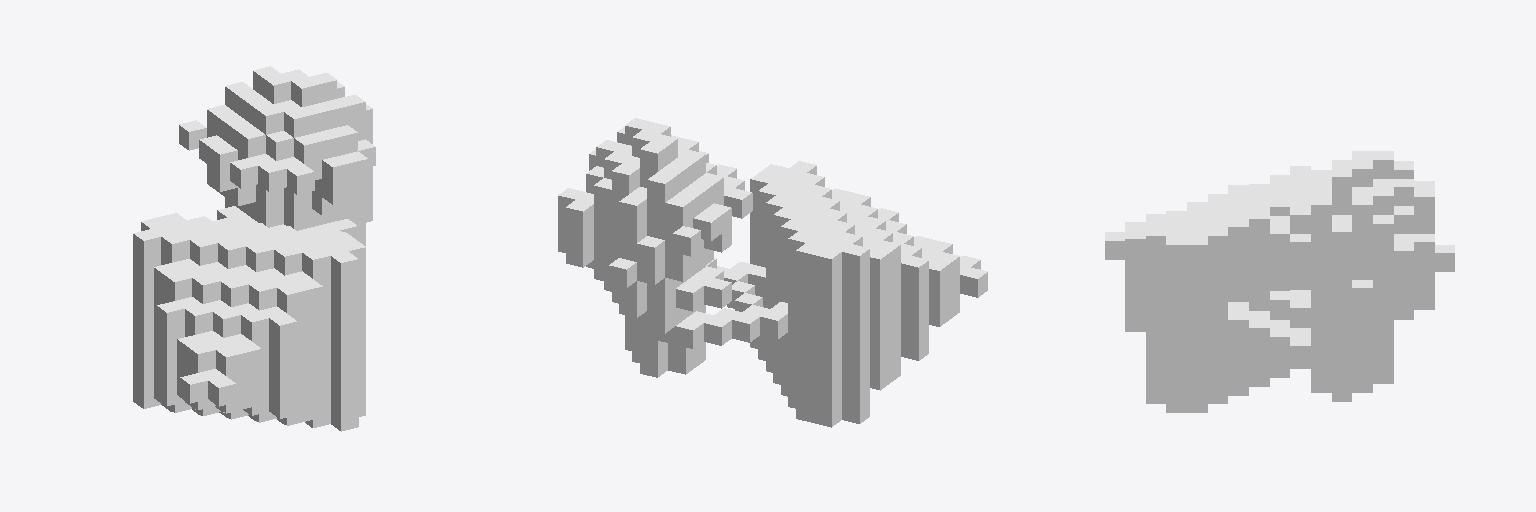
Rendered from attacker4.obj.
The picture shows the model from 3 angles: view 1: azimuth 30°, elevation 25°; view 2: azimuth 150°, elevation 25°; view 3: azimuth 270°, elevation 25°; orthographic projection.
Parts seen in each view (by area): view 1: object 1; view 2: object 1; view 3: object 1.
Boxes of the visible parts, <box> form: object 1: <box>133,66,375,431</box>; object 1: <box>558,118,987,427</box>; object 1: <box>1105,151,1454,412</box>.
Size of the model in its own units: 1.6 by 1.4 by 1.7.